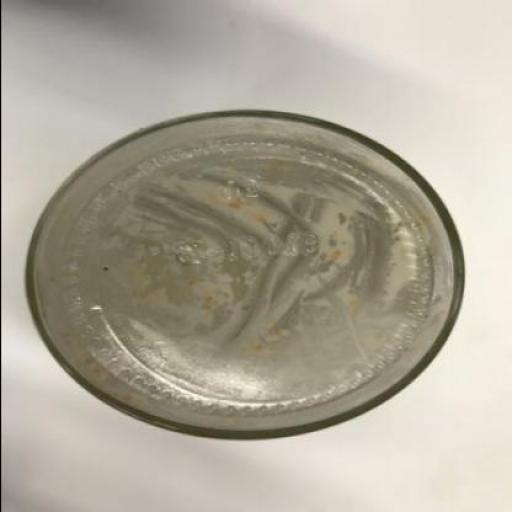glass: (24, 112, 465, 439)
